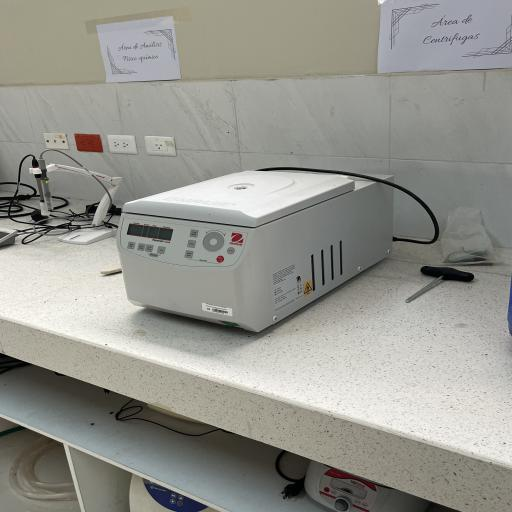Centrifuga_Ohaus_Frontier: (103, 154, 416, 338)
